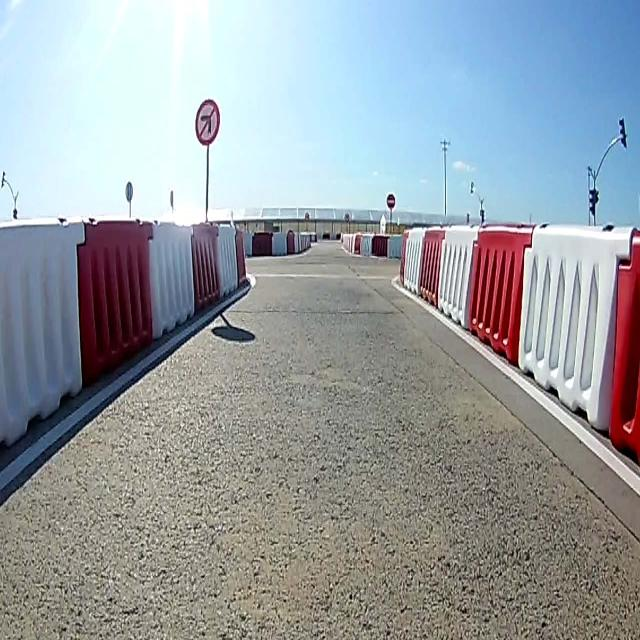girisyok: (386, 191, 396, 211)
soladonulmez: (195, 98, 219, 146)
